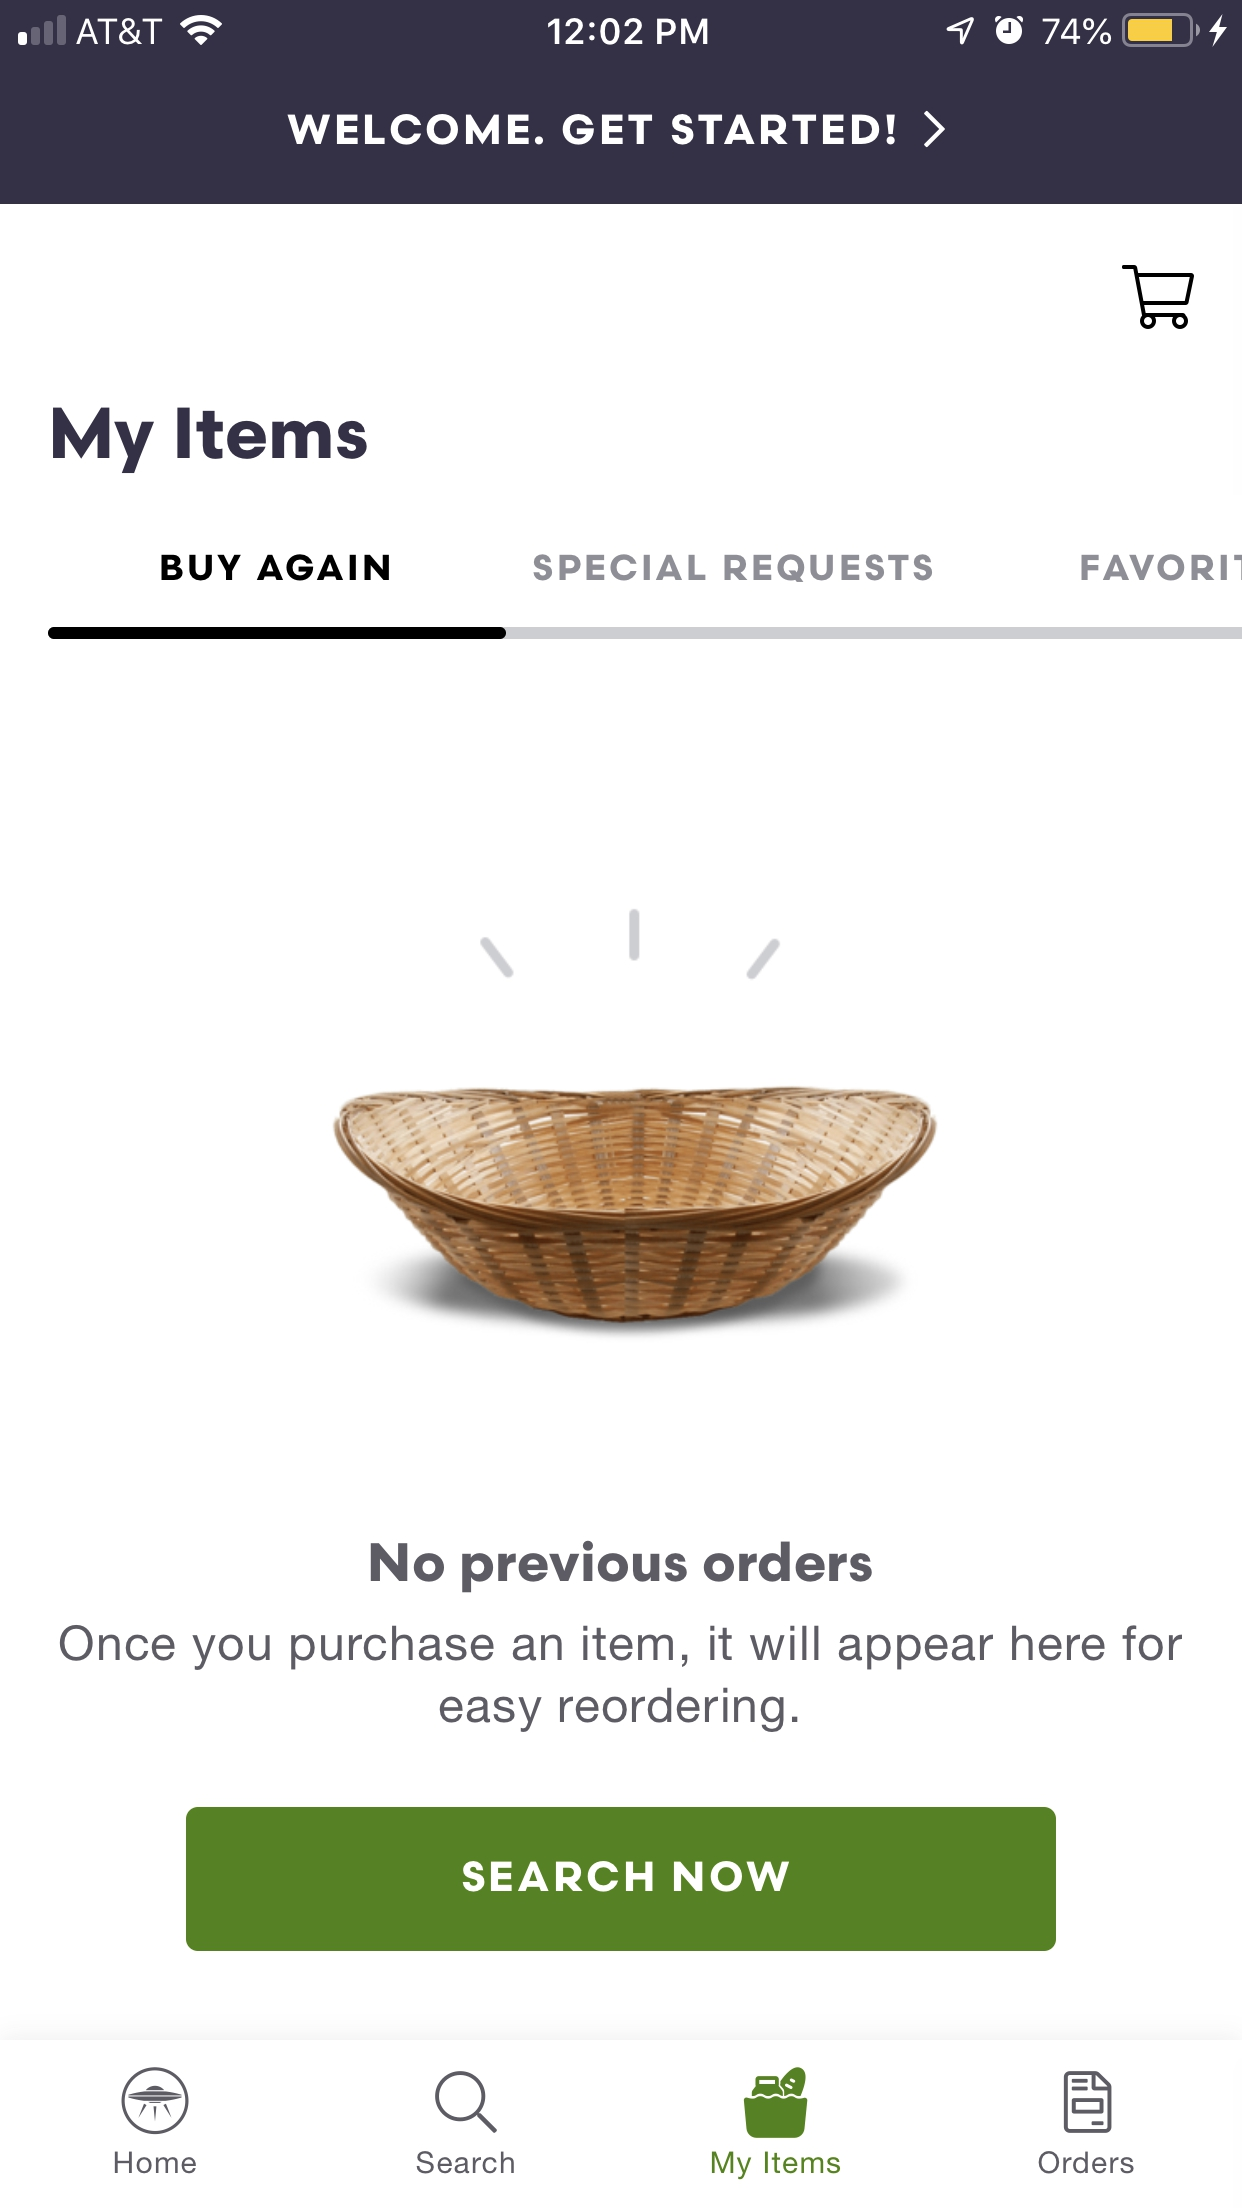Icon: (1122, 265, 1195, 331), (434, 2070, 497, 2134), (1063, 2070, 1113, 2134), (924, 111, 946, 149)
Image: (332, 908, 939, 1324), (121, 2067, 191, 2135), (745, 2065, 808, 2138)
Text: (61, 1624, 1183, 1733), (370, 1541, 873, 1594), (55, 406, 369, 475), (287, 114, 896, 147), (532, 554, 933, 582), (162, 554, 391, 582), (1081, 554, 1242, 582), (711, 2150, 842, 2181), (416, 2150, 516, 2175), (1037, 2150, 1134, 2175), (115, 2150, 199, 2175)
TextButton: (187, 1806, 1057, 1952)
UpperTaskBar: (2, 2, 1242, 49)
